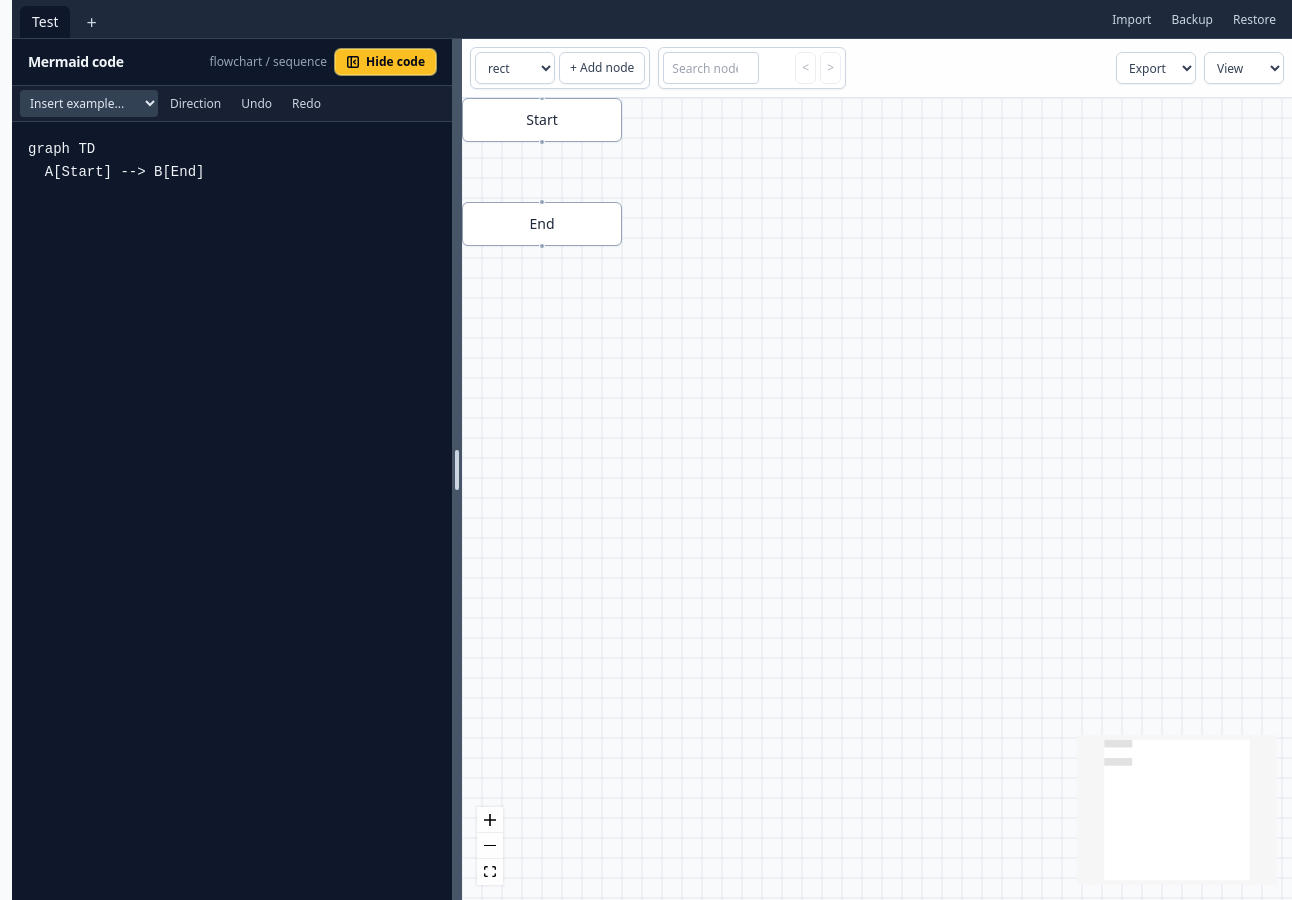
Test: MermaidVisualEditor: node label editing › commits after IME composition is confirmed with Enter
Double-click the text "Start".
double_click(542, 120)  # box [462,98,622,142]
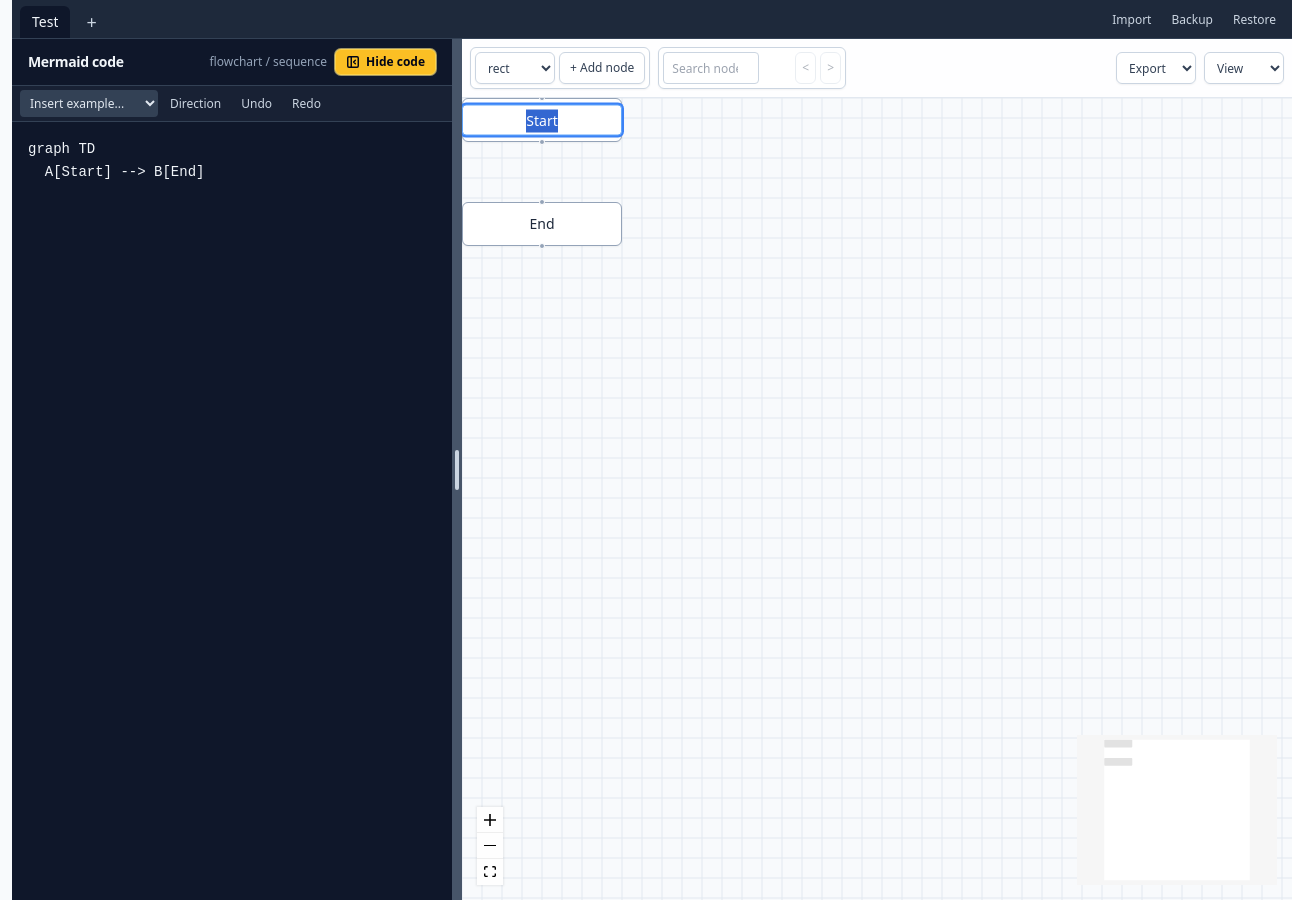
Replace the text in the text box showing "Start" next to "Start" with "New label" at (542, 120), box [462,104,622,136]
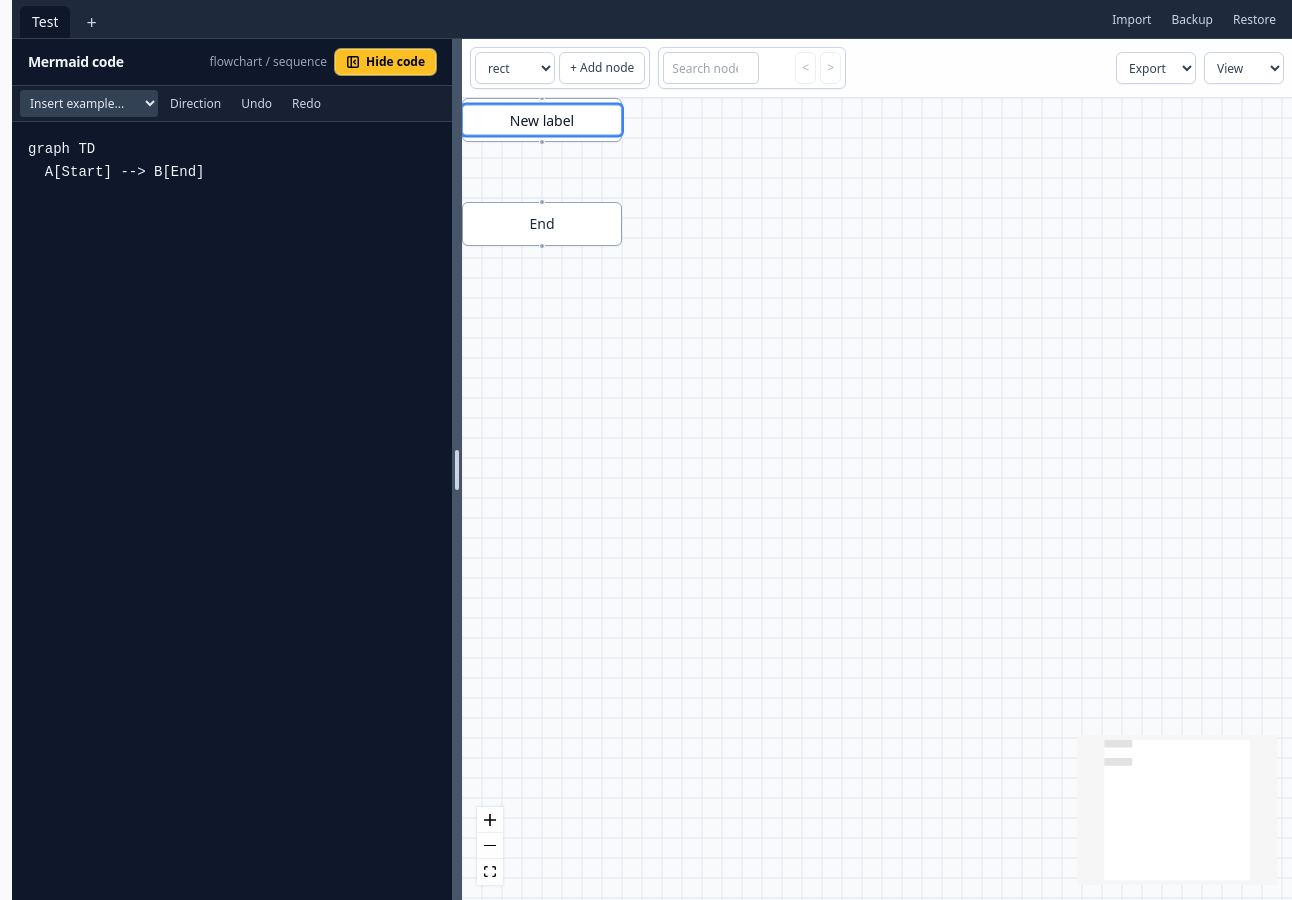
Press Enter in the text box showing "Start" next to "Start", box [462,104,622,136]
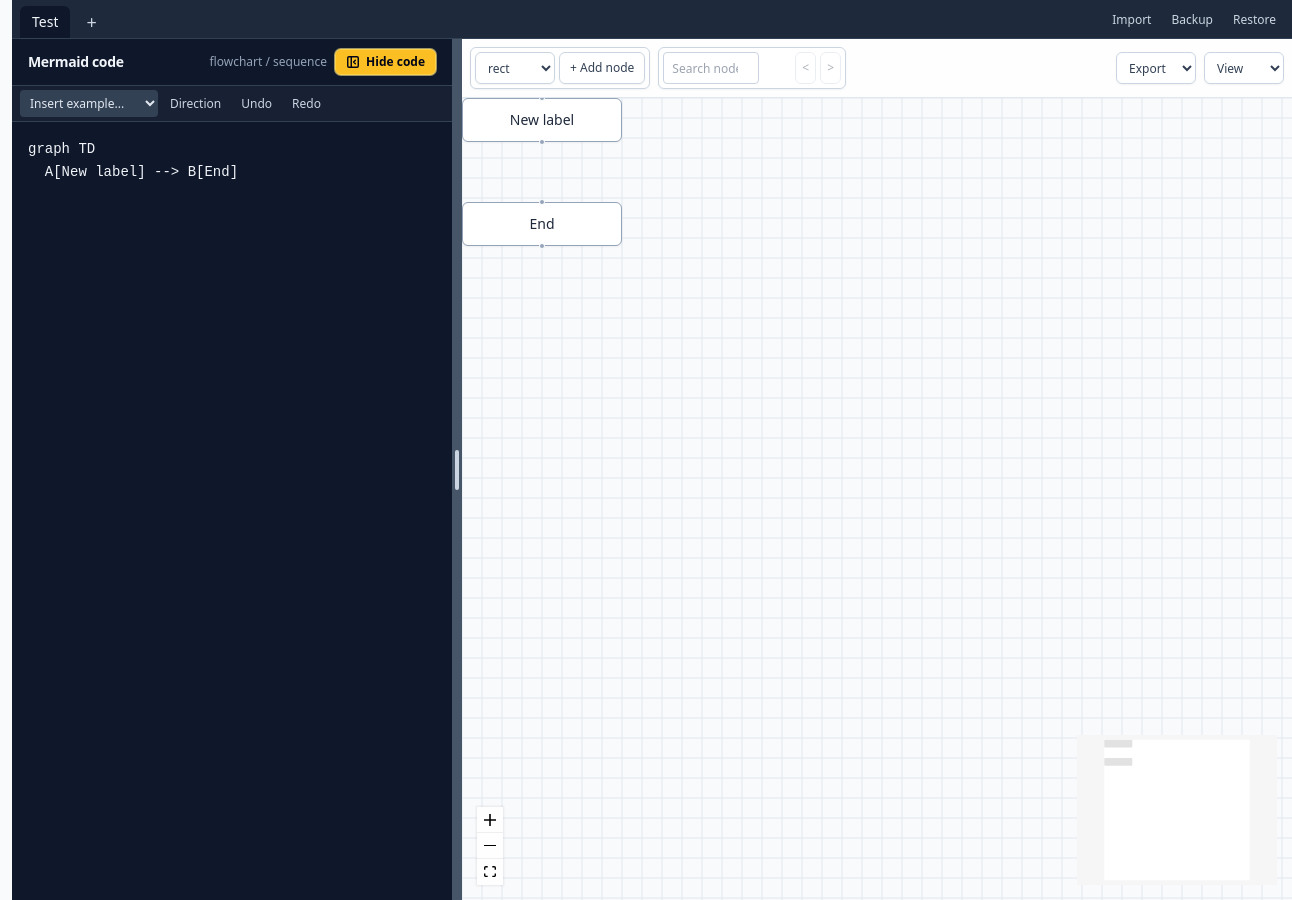
Result: the text "New label" is shown at [462,98,622,142]
